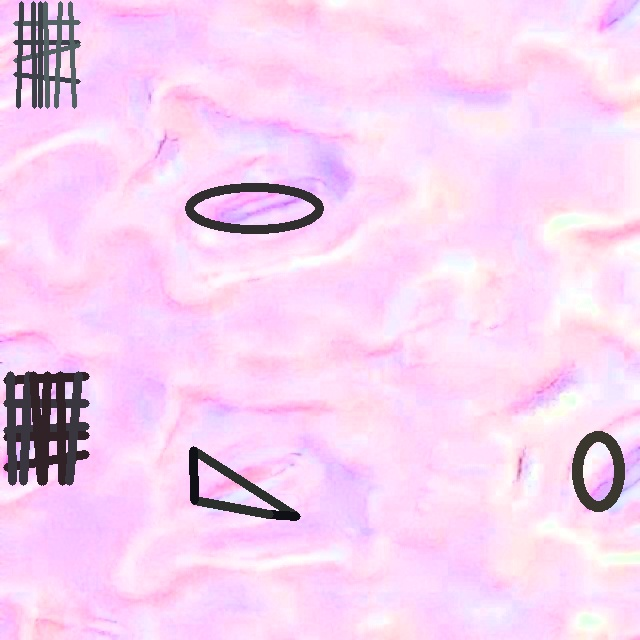open: (3, 371, 89, 485), (190, 447, 300, 518), (13, 1, 80, 108), (184, 182, 324, 233), (572, 431, 625, 511)
